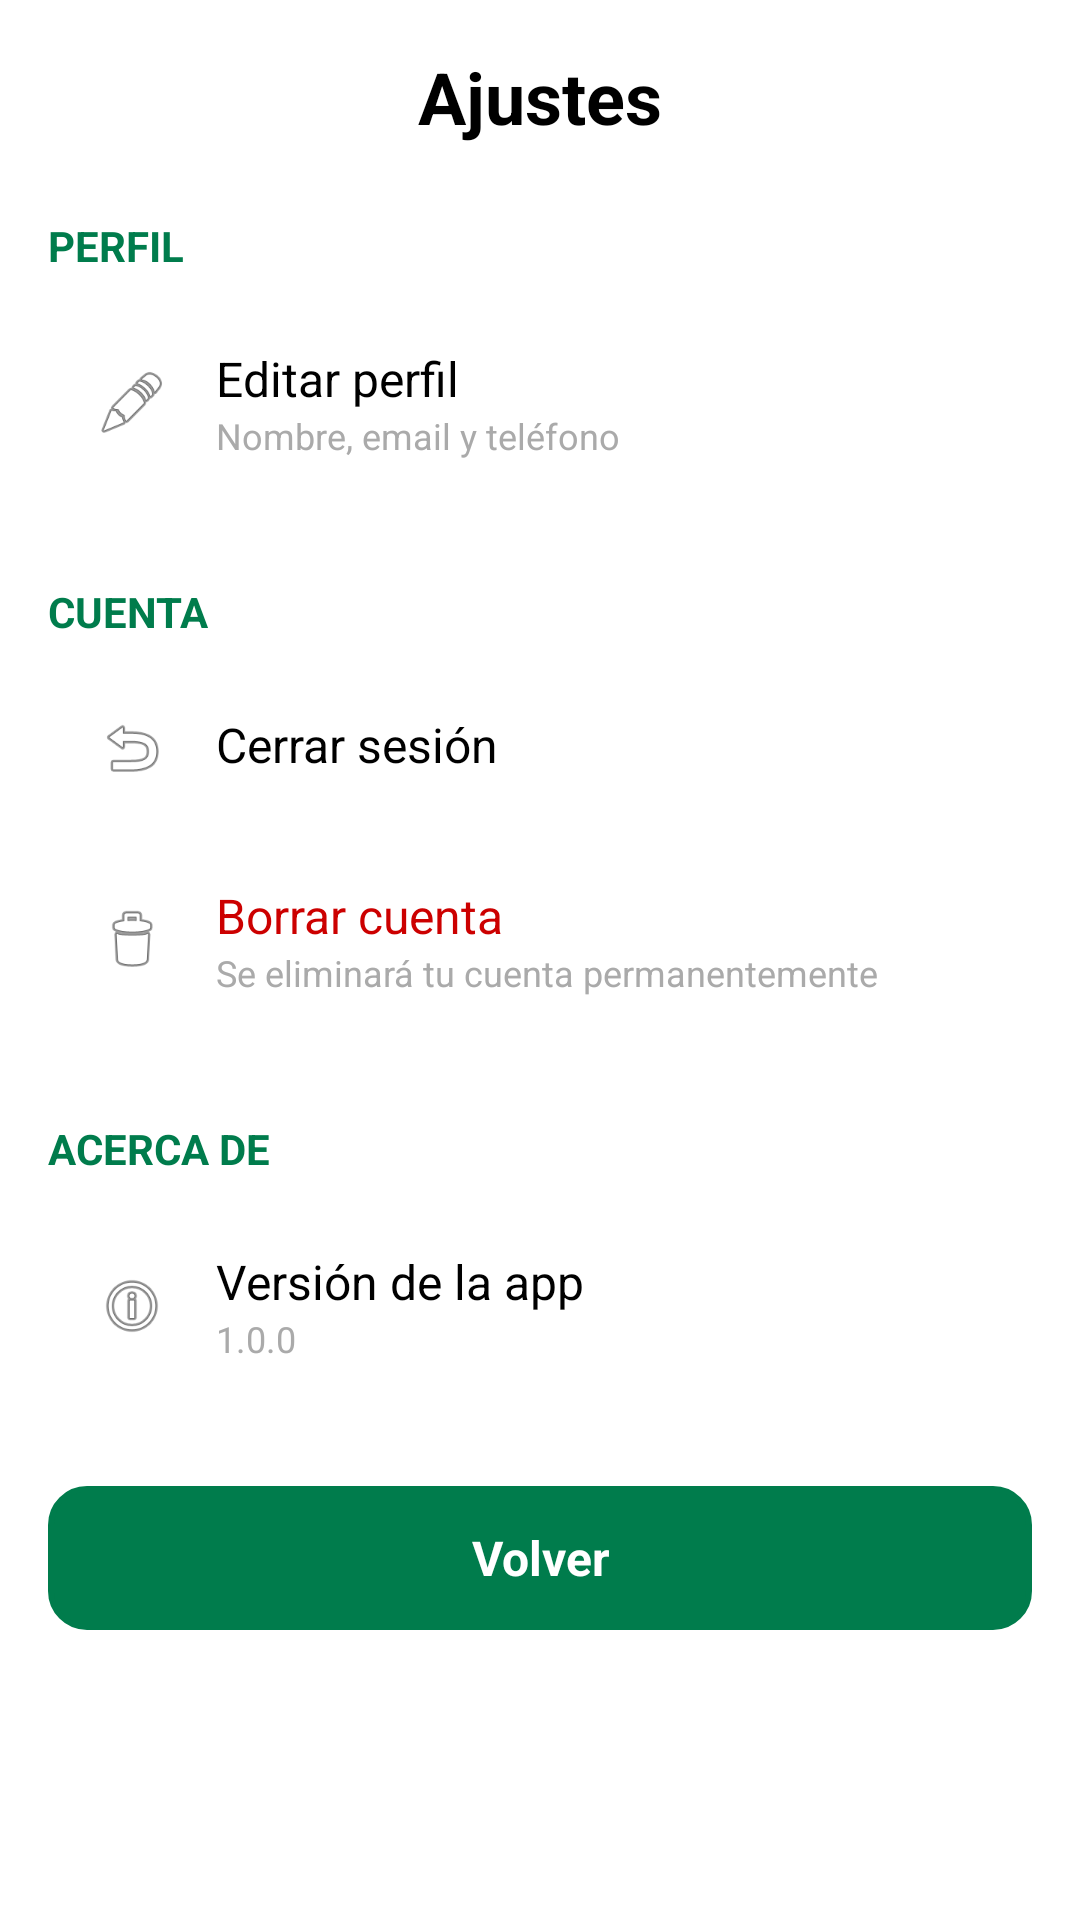

Named icons in this screenshot (1080x1920) and their centers, (x=x, y=y):
delete: (x=132, y=939)
info details: (x=132, y=1306)
revert: (x=133, y=748)
